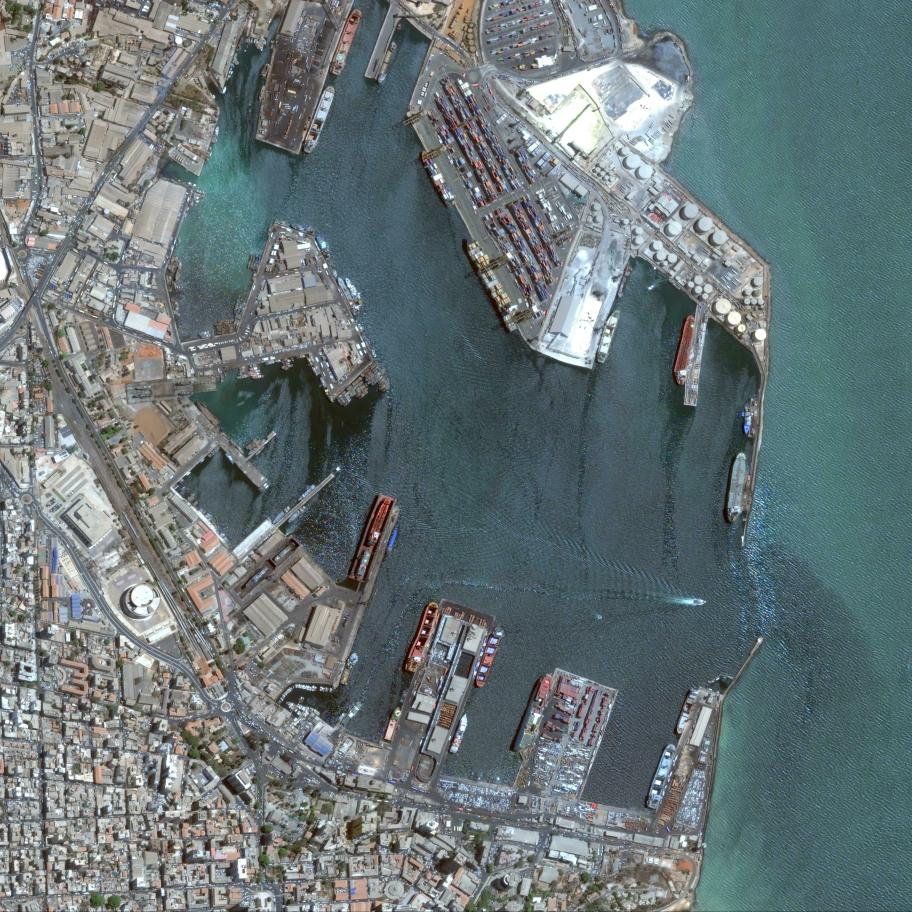large-vehicle: (620, 184, 628, 191), (566, 751, 576, 756), (611, 139, 618, 146), (606, 145, 613, 152), (727, 271, 734, 278), (595, 151, 602, 158), (637, 135, 644, 142), (615, 172, 622, 179), (626, 183, 633, 190), (610, 135, 616, 143), (599, 180, 607, 186), (579, 57, 587, 63), (630, 139, 638, 145), (595, 56, 604, 61), (661, 236, 668, 242), (734, 302, 740, 309), (610, 190, 617, 196), (563, 164, 570, 170), (720, 277, 727, 283), (605, 141, 611, 148), (668, 119, 674, 126), (640, 135, 647, 141), (661, 126, 668, 132), (665, 243, 672, 249), (648, 138, 655, 144), (666, 121, 672, 128), (655, 131, 662, 137), (561, 159, 568, 165), (596, 181, 603, 187), (719, 289, 726, 295), (664, 122, 670, 129), (725, 283, 731, 290), (693, 265, 699, 272), (734, 277, 741, 283), (616, 194, 623, 200), (731, 269, 738, 275), (685, 261, 692, 267), (641, 193, 647, 200), (679, 254, 685, 261), (732, 279, 739, 285), (555, 154, 562, 160), (492, 100, 498, 107), (503, 108, 510, 114), (509, 113, 516, 119), (635, 136, 642, 142), (633, 137, 640, 143), (580, 176, 587, 182), (672, 247, 679, 253), (586, 181, 593, 187), (597, 190, 603, 197), (543, 144, 550, 150), (538, 139, 545, 145), (517, 123, 524, 129), (610, 49, 616, 56), (632, 138, 639, 144), (592, 185, 599, 191), (619, 188, 626, 194), (620, 187, 627, 193), (517, 83, 524, 89), (449, 40, 456, 46), (629, 181, 636, 187), (572, 170, 580, 175), (595, 40, 603, 45), (628, 141, 636, 146), (596, 44, 604, 49), (155, 340, 163, 345), (611, 206, 617, 212), (591, 162, 597, 168), (649, 122, 655, 128), (672, 249, 678, 255), (644, 132, 650, 138), (601, 151, 607, 157), (643, 196, 649, 202), (727, 273, 733, 279), (729, 297, 735, 303), (597, 156, 603, 162), (731, 280, 737, 286), (724, 276, 730, 282), (498, 103, 504, 109), (515, 118, 521, 124), (527, 128, 533, 134), (598, 189, 604, 195), (590, 157, 596, 163), (623, 842, 632, 846), (663, 852, 672, 856), (34, 273, 41, 278), (35, 272, 42, 277), (651, 123, 656, 130), (616, 205, 623, 210), (685, 259, 692, 264), (712, 285, 719, 290), (702, 250, 709, 255), (593, 33, 600, 38), (657, 130, 664, 135), (416, 747, 421, 754), (72, 53, 79, 58), (666, 826, 671, 833), (671, 824, 676, 831), (418, 677, 423, 684), (113, 172, 118, 179), (482, 637, 487, 644), (587, 64, 595, 68), (38, 264, 46, 268), (594, 39, 602, 43), (588, 59, 596, 63), (603, 54, 611, 58), (549, 71, 557, 75), (187, 346, 195, 350), (422, 731, 426, 739), (660, 833, 668, 837), (652, 829, 660, 833), (643, 845, 651, 849), (704, 764, 708, 772), (570, 751, 578, 755), (74, 267, 79, 273), (103, 261, 109, 266), (615, 206, 620, 212), (614, 207, 619, 213), (668, 113, 674, 118), (568, 164, 573, 170), (582, 174, 588, 179), (654, 133, 660, 138), (590, 176, 596, 181), (651, 134, 657, 139), (653, 134, 659, 139), (704, 248, 710, 253), (714, 283, 720, 288), (725, 275, 731, 280), (521, 123, 527, 128), (601, 147, 606, 153), (644, 140, 649, 146), (549, 149, 555, 154), (722, 294, 728, 299), (603, 9, 608, 15), (33, 275, 40, 279), (38, 265, 45, 269), (36, 270, 43, 274), (570, 24, 574, 31), (563, 14, 567, 21), (592, 29, 599, 33), (615, 14, 619, 21), (580, 66, 587, 70), (574, 37, 578, 44), (585, 27, 589, 34), (415, 683, 419, 690), (578, 752, 585, 756), (116, 279, 120, 286), (170, 247, 174, 254), (209, 344, 216, 348), (411, 786, 418, 790), (419, 740, 423, 747), (413, 689, 417, 696), (35, 36, 39, 43), (674, 754, 678, 761), (669, 770, 673, 777), (680, 797, 684, 804), (675, 805, 679, 812), (664, 848, 671, 852), (688, 777, 692, 784), (677, 745, 681, 752), (686, 774, 690, 781), (437, 612, 441, 619), (571, 750, 578, 754), (569, 748, 576, 752), (577, 678, 584, 682), (520, 823, 527, 827), (506, 75, 515, 78), (726, 282, 731, 287), (660, 238, 665, 243), (646, 128, 651, 133), (562, 8, 567, 13), (82, 892, 90, 895), (38, 268, 44, 272), (619, 211, 627, 214), (649, 137, 655, 141), (598, 46, 604, 50), (593, 31, 599, 35), (559, 2, 563, 8), (557, 10, 561, 16), (559, 7, 563, 13), (572, 69, 578, 73), (593, 25, 601, 28), (556, 74, 562, 78), (497, 74, 505, 77), (488, 71, 496, 74), (186, 197, 190, 203), (739, 307, 745, 311), (206, 344, 214, 347), (417, 676, 421, 682), (706, 787, 709, 795), (701, 746, 709, 749), (447, 664, 450, 672), (454, 644, 457, 652), (573, 747, 579, 751), (579, 677, 585, 681), (572, 678, 578, 682), (519, 825, 527, 828), (512, 824, 520, 827), (137, 265, 144, 268), (565, 14, 568, 21), (691, 262, 694, 269), (504, 76, 511, 79), (557, 1, 560, 8), (576, 44, 579, 51), (533, 81, 540, 84), (613, 34, 616, 41), (416, 675, 419, 682), (87, 159, 94, 162), (620, 34, 623, 41), (151, 266, 158, 269), (174, 238, 177, 245), (292, 764, 295, 771), (346, 768, 353, 771), (411, 688, 414, 695), (601, 837, 608, 840), (690, 762, 693, 769), (702, 742, 709, 745), (704, 735, 711, 738), (687, 748, 694, 751), (708, 772, 711, 779), (465, 808, 472, 811), (436, 694, 439, 701), (419, 668, 422, 675), (423, 663, 426, 670), (427, 643, 430, 650), (432, 634, 435, 641), (435, 618, 438, 625), (452, 607, 459, 610), (576, 750, 583, 753), (499, 820, 506, 823), (456, 807, 463, 810), (79, 259, 83, 264), (609, 59, 614, 63), (484, 81, 487, 87), (610, 213, 616, 216), (626, 133, 629, 139), (501, 77, 507, 80), (507, 78, 513, 81), (521, 78, 527, 81), (145, 265, 151, 268), (698, 764, 704, 767), (409, 696, 412, 702), (201, 344, 207, 347), (619, 26, 622, 32), (645, 825, 648, 831), (414, 680, 417, 686), (420, 669, 423, 675), (421, 670, 424, 676), (525, 80, 533, 82), (702, 741, 710, 743), (703, 740, 711, 742), (531, 826, 539, 828), (610, 1, 613, 6), (613, 8, 616, 13), (567, 71, 572, 74), (562, 73, 567, 76), (519, 81, 524, 84), (617, 20, 620, 25), (214, 342, 219, 345), (196, 345, 201, 348), (204, 346, 209, 349), (615, 41, 617, 48), (621, 42, 623, 49), (491, 77, 498, 79), (199, 346, 206, 348), (413, 687, 415, 694), (702, 745, 709, 747), (709, 765, 711, 772), (704, 802, 706, 809), (702, 744, 709, 746), (474, 666, 476, 673), (568, 29, 570, 35), (568, 25, 571, 29), (101, 172, 104, 176), (679, 754, 681, 760), (704, 734, 711, 735), (564, 30, 565, 36)
ship: (460, 232, 524, 333), (512, 670, 556, 755), (404, 598, 441, 674), (301, 83, 339, 155), (328, 6, 365, 76), (418, 149, 456, 209), (472, 626, 506, 691), (645, 743, 677, 810), (671, 313, 696, 386), (725, 451, 748, 524), (595, 308, 622, 364), (367, 495, 392, 547), (674, 687, 699, 735), (335, 275, 362, 316), (375, 39, 398, 84), (194, 397, 221, 428), (449, 713, 469, 754), (383, 705, 403, 742), (343, 275, 364, 309), (244, 565, 271, 590), (340, 651, 359, 686), (340, 700, 364, 727), (616, 263, 634, 299), (273, 541, 296, 563), (356, 547, 373, 576), (315, 235, 333, 262), (287, 505, 307, 525), (271, 505, 291, 525), (297, 483, 316, 503), (359, 359, 380, 377), (386, 526, 399, 555), (290, 221, 316, 235), (247, 438, 266, 457), (367, 368, 385, 386), (364, 366, 383, 383), (743, 402, 753, 434), (349, 382, 369, 398), (364, 337, 379, 358), (229, 438, 246, 455), (371, 371, 387, 387), (364, 364, 381, 379), (348, 379, 365, 394), (346, 377, 363, 392), (326, 260, 339, 278), (356, 323, 368, 341), (259, 63, 272, 79), (248, 438, 262, 452), (245, 437, 259, 451), (324, 387, 336, 403), (259, 481, 273, 494), (355, 387, 370, 399), (211, 125, 220, 144), (233, 295, 242, 314), (399, 687, 409, 704), (274, 218, 291, 228), (208, 445, 221, 458), (175, 261, 183, 281), (257, 480, 271, 491), (339, 394, 351, 406), (669, 278, 681, 290), (224, 452, 235, 465), (645, 282, 658, 293), (171, 256, 179, 273), (168, 254, 176, 271), (235, 313, 243, 330), (133, 392, 152, 399), (337, 392, 349, 403), (335, 389, 347, 400), (309, 705, 321, 716), (378, 381, 390, 392), (232, 312, 240, 328), (236, 36, 244, 52), (214, 320, 232, 327), (173, 237, 181, 252), (259, 84, 266, 101), (358, 390, 369, 400), (342, 397, 353, 407), (255, 446, 265, 457), (217, 329, 235, 335), (236, 373, 251, 380), (237, 298, 244, 313), (319, 376, 327, 389), (135, 385, 152, 391), (313, 364, 322, 375), (267, 222, 274, 236), (205, 146, 212, 160), (240, 299, 247, 313), (218, 326, 234, 332), (198, 330, 214, 336), (308, 352, 316, 364), (382, 384, 391, 394), (210, 520, 219, 530), (200, 333, 215, 339), (251, 374, 266, 380), (216, 324, 233, 329), (338, 711, 346, 721), (377, 376, 387, 384), (378, 379, 388, 387), (306, 356, 314, 366), (311, 366, 319, 376), (249, 363, 262, 369), (281, 364, 294, 370), (289, 703, 297, 712), (170, 297, 176, 309), (199, 190, 205, 201), (281, 358, 292, 364), (232, 52, 238, 63), (219, 370, 224, 383), (204, 514, 212, 522), (206, 512, 214, 520), (248, 110, 253, 122), (193, 188, 199, 198), (237, 371, 249, 376), (265, 360, 275, 366), (302, 709, 309, 717), (252, 270, 257, 281), (239, 368, 250, 373), (174, 300, 179, 311), (222, 85, 227, 95), (196, 190, 201, 200), (255, 263, 260, 273), (186, 182, 196, 187), (227, 67, 233, 75), (250, 372, 262, 376), (249, 367, 261, 371), (254, 254, 259, 263), (168, 275, 172, 286), (249, 370, 260, 374), (239, 366, 250, 370), (296, 355, 307, 359), (200, 457, 206, 464), (185, 471, 192, 477), (289, 702, 295, 709), (247, 261, 252, 269), (180, 485, 186, 491), (255, 39, 259, 48), (250, 252, 254, 261), (250, 261, 254, 270), (247, 36, 251, 44), (252, 263, 256, 271), (274, 359, 282, 363), (179, 479, 185, 484), (169, 474, 174, 480), (296, 703, 301, 709), (166, 275, 169, 285), (283, 362, 290, 366), (226, 75, 230, 82), (252, 254, 255, 262), (258, 255, 261, 263), (270, 43, 274, 49), (250, 37, 253, 44), (178, 478, 183, 482), (291, 684, 295, 689), (303, 706, 307, 711), (301, 705, 305, 710), (299, 705, 303, 710), (283, 692, 288, 696), (287, 701, 291, 706), (307, 685, 310, 691), (312, 685, 315, 691), (288, 688, 292, 692), (286, 689, 290, 693), (282, 693, 286, 697), (280, 697, 284, 701), (329, 687, 332, 692), (249, 101, 252, 106), (298, 711, 301, 716), (298, 704, 301, 709), (297, 710, 300, 715), (294, 707, 297, 712), (295, 708, 298, 713), (320, 686, 322, 692), (285, 691, 289, 694), (286, 700, 289, 704), (315, 686, 317, 691), (261, 46, 263, 51), (305, 684, 307, 689), (325, 687, 327, 692), (327, 687, 329, 692), (323, 687, 325, 692), (322, 687, 324, 691), (303, 685, 305, 689), (301, 684, 303, 688), (298, 684, 300, 688), (310, 687, 312, 691), (308, 686, 310, 690), (296, 683, 297, 688)
storage-tank: (714, 298, 731, 315), (696, 216, 713, 232), (623, 154, 641, 169), (682, 204, 699, 219), (711, 231, 728, 246), (666, 222, 682, 237), (637, 165, 653, 179), (726, 311, 741, 325), (751, 329, 766, 342), (653, 251, 667, 261), (618, 146, 630, 157), (651, 240, 663, 250), (752, 277, 763, 287), (667, 253, 677, 263), (593, 214, 603, 223), (694, 275, 703, 284), (704, 284, 713, 293), (693, 285, 702, 294), (592, 203, 602, 211), (633, 237, 643, 245), (634, 227, 643, 235), (736, 325, 745, 333), (699, 293, 708, 301), (621, 218, 629, 226), (743, 289, 752, 296), (743, 298, 751, 305), (175, 37, 183, 44), (184, 40, 192, 47), (753, 289, 761, 296), (597, 161, 606, 167), (757, 298, 764, 305), (660, 261, 668, 267), (686, 282, 694, 288), (468, 46, 476, 52), (76, 71, 83, 77), (468, 39, 475, 45), (751, 298, 757, 304), (466, 34, 473, 39), (103, 209, 110, 214), (68, 57, 74, 62), (169, 35, 175, 40), (604, 175, 609, 180), (75, 59, 80, 64), (63, 60, 67, 65), (595, 167, 600, 171), (604, 167, 609, 171), (467, 28, 472, 32), (6, 151, 11, 155), (5, 136, 10, 140), (128, 250, 132, 254), (470, 23, 474, 27), (601, 171, 605, 175), (609, 171, 613, 175), (610, 177, 614, 181), (6, 148, 11, 151), (6, 144, 11, 147), (6, 140, 10, 143), (171, 41, 174, 44), (84, 78, 87, 81)
